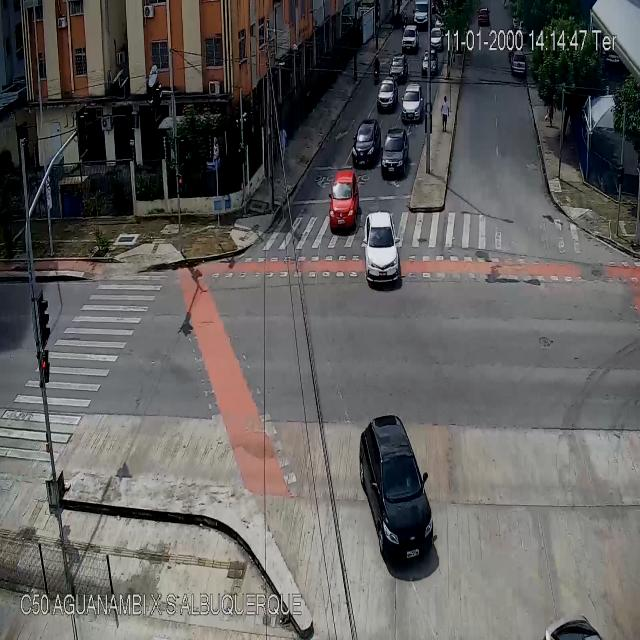Car: (359, 416, 434, 562), (362, 212, 401, 284), (329, 168, 357, 237), (381, 130, 410, 179), (352, 121, 379, 168), (402, 86, 420, 125), (378, 78, 395, 109), (390, 54, 408, 82), (401, 26, 418, 50), (428, 28, 443, 53), (422, 52, 437, 76), (512, 50, 524, 73), (478, 8, 490, 28)
Motorcycle: (373, 54, 383, 86)
Truck: (414, 1, 428, 25)
